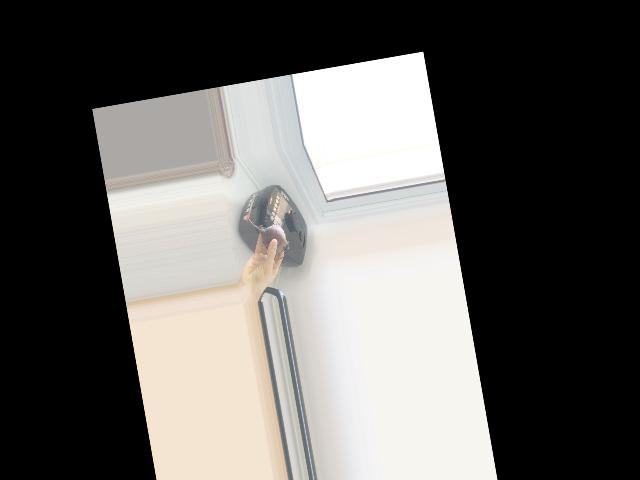beet: (248, 212, 291, 262)
